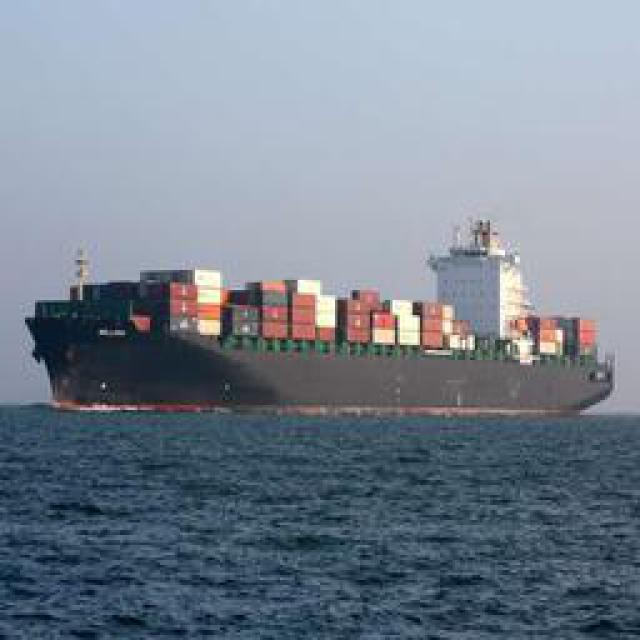Ship: (34, 207, 604, 420)
